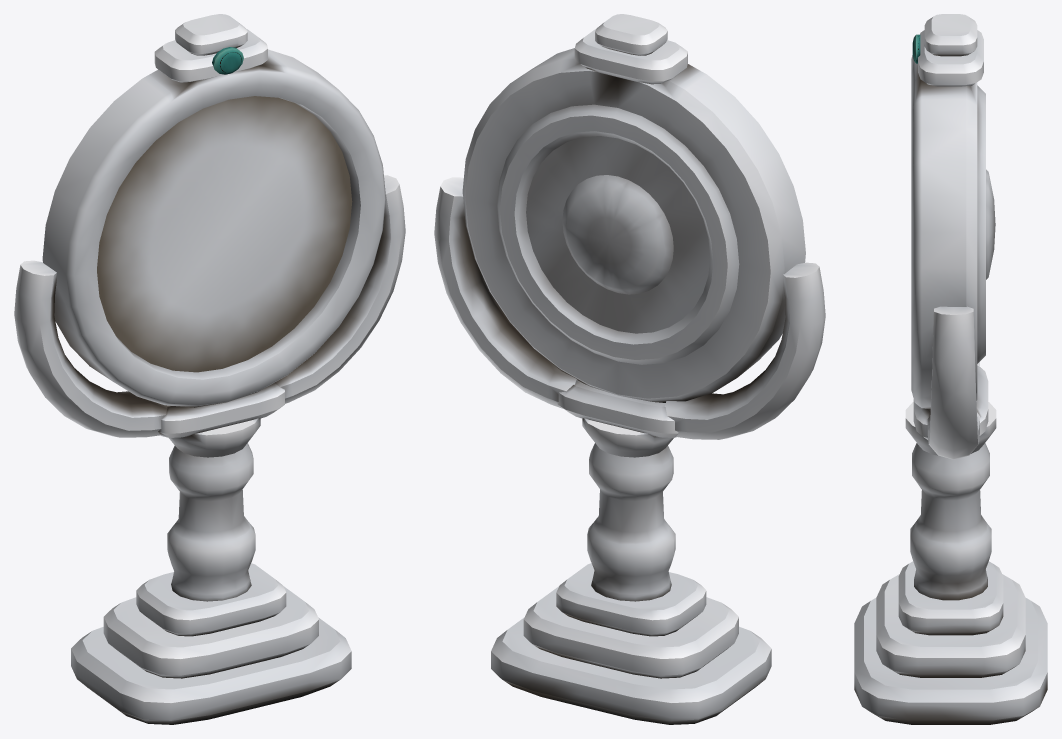
The model's file is silver_mirror.fbx.
The picture shows the model from 3 angles, left to right: view 1: azimuth 30°, elevation 25°; view 2: azimuth 150°, elevation 25°; view 3: azimuth 270°, elevation 25°; orthographic projection.
Parts seen in each view (by area): view 1: silver_mirror_Body; view 2: silver_mirror_Body; view 3: silver_mirror_Body.
Part boxes in pixels (<box>): silver_mirror_Body: <box>14,14,405,724</box>; silver_mirror_Body: <box>434,14,825,724</box>; silver_mirror_Body: <box>854,14,1047,724</box>.
Bounding box in the file's own units: 0.1905 × 0.3084 × 0.0832.
1 material, 1 textured.
